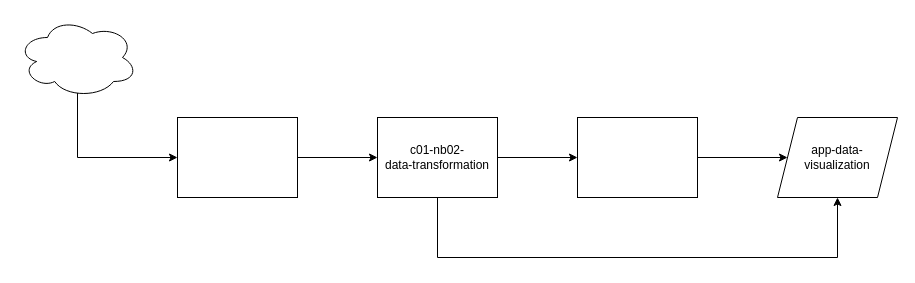
Some shapes in this 915 by 283 pixel diagram are drawn without their labels. Here are the shapes that lost their labels. From the top down, the centre of each, then its label:
At [237,157]: "c01-nb01- donwload-curate".
At [637,157]: "c01-nb03- advanced-transformation".
